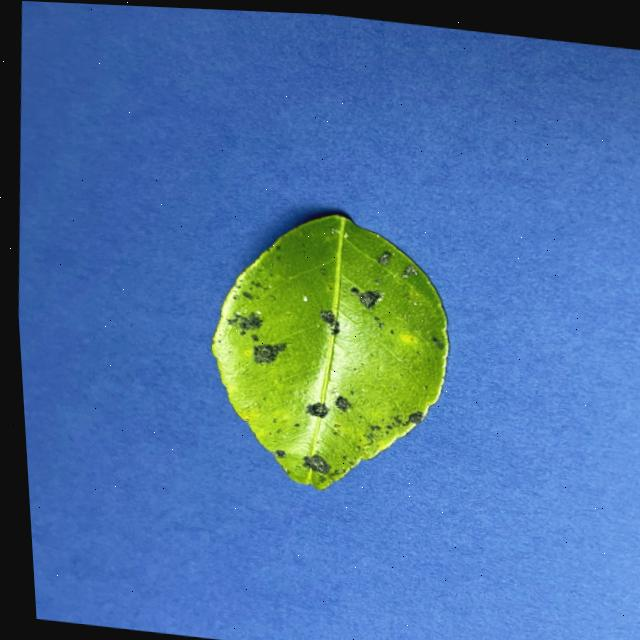sooty_mold: (212, 215, 448, 489)
